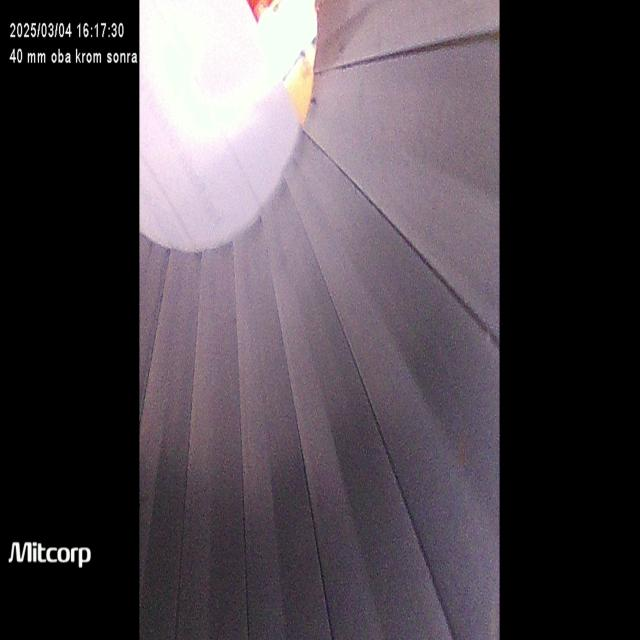hata_8.2: (159, 498, 258, 620)
